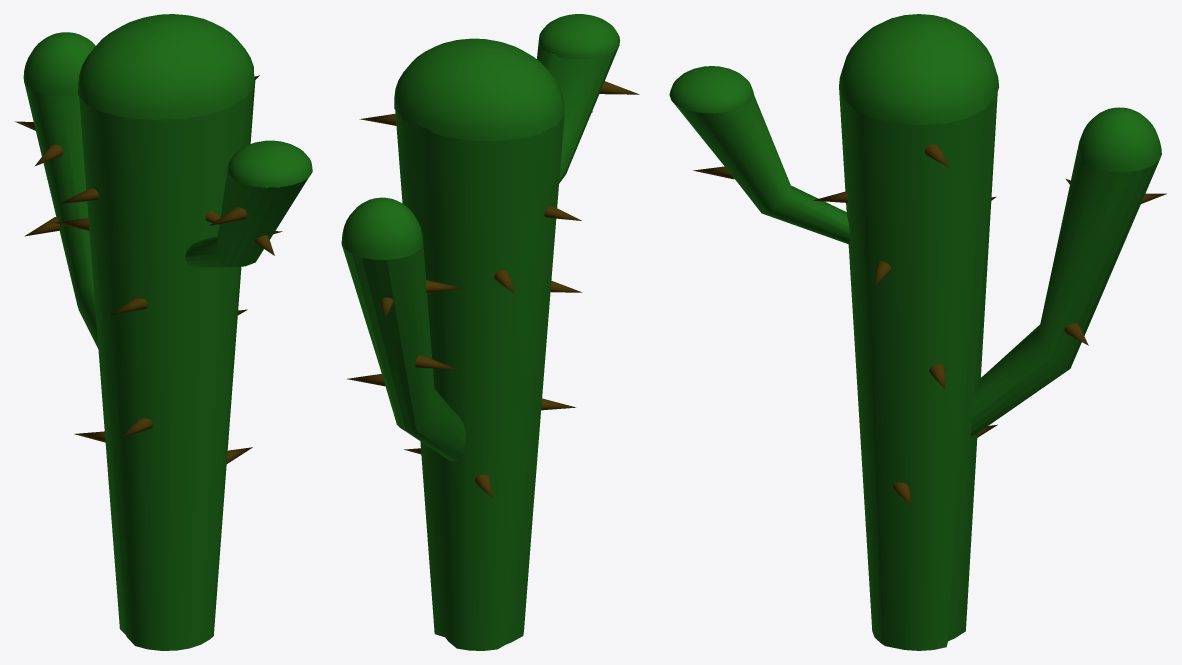
File: Cactus 2.fbx
3 views of the same model, side by side, from view 1: azimuth 30°, elevation 25°; view 2: azimuth 150°, elevation 25°; view 3: azimuth 270°, elevation 25° (orthographic). The views are drawn at different scales.
Visible parts, largest first — view 1: polySurface18, polySurface15, polySurface23; view 2: polySurface18, polySurface15, polySurface23; view 3: polySurface18, polySurface15, polySurface23.
Part boxes in pixels (x1,y1,x2,y2): polySurface18: [51, 14, 282, 650]; polySurface15: [14, 32, 98, 348]; polySurface23: [185, 140, 312, 267]; polySurface18: [359, 38, 582, 650]; polySurface15: [341, 197, 465, 460]; polySurface23: [537, 14, 639, 183]; polySurface18: [813, 14, 998, 650]; polySurface15: [970, 107, 1166, 436]; polySurface23: [669, 66, 849, 244].
Bounding box in the file's own units: 3.64 × 9.74 × 7.25.
